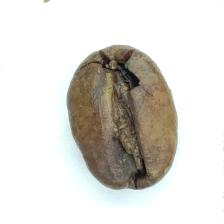NG: (75, 75, 157, 190)
